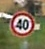limite 40: (9, 8, 34, 37)
